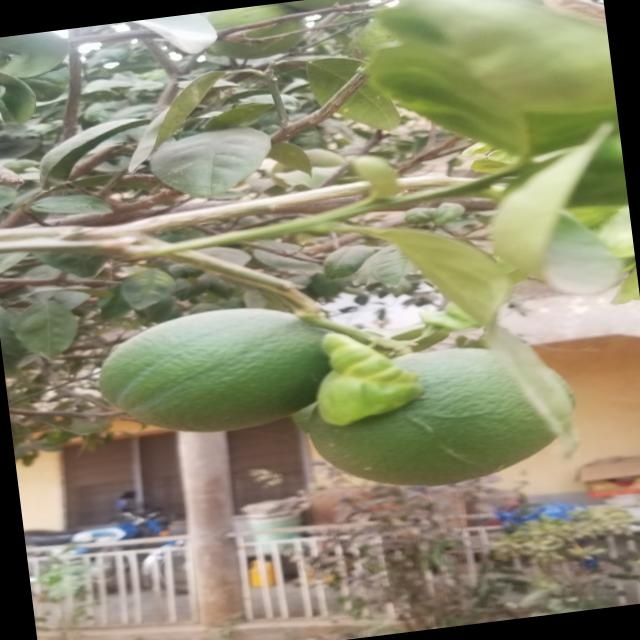agrume: (295, 327, 582, 509), (80, 292, 364, 451)
